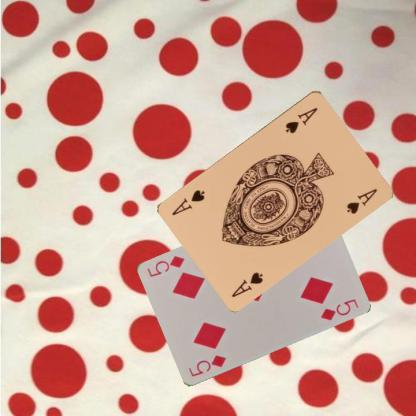5d: (186, 352, 227, 378)
As: (282, 104, 320, 134), (228, 268, 265, 298)
